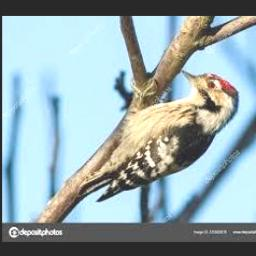Woodpecker: (77, 70, 239, 202)
